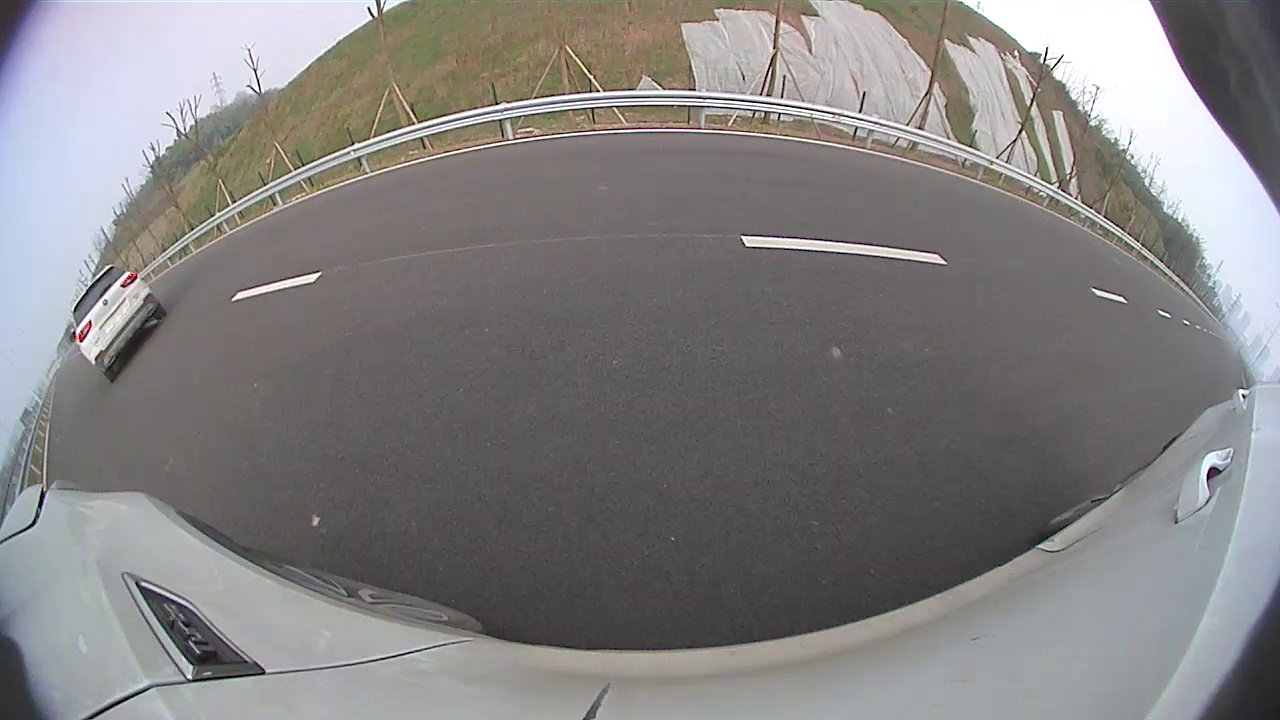car: (481, 118, 621, 230)
rear: (588, 175, 607, 220)
